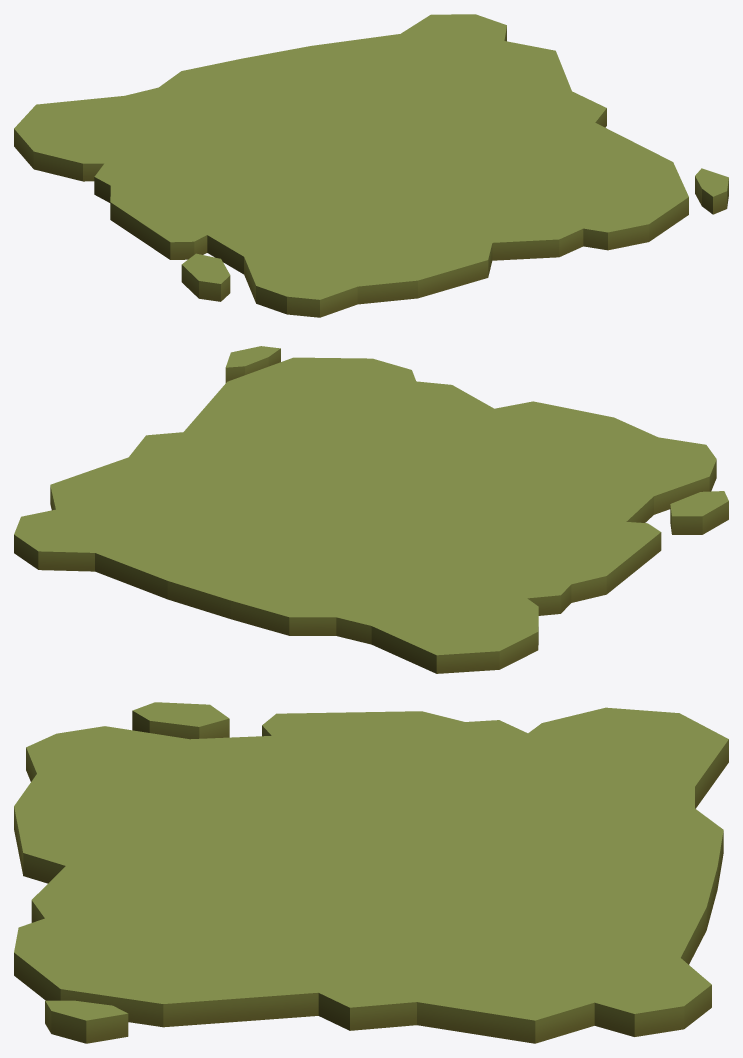
The model's file is Building_Grass_01.fbx.
3 views of the same model, one above another, from view 1: azimuth 30°, elevation 25°; view 2: azimuth 150°, elevation 25°; view 3: azimuth 270°, elevation 25° (orthographic). The views are drawn at different scales.
Parts seen in each view (by area): view 1: Building_Grass_01; view 2: Building_Grass_01; view 3: Building_Grass_01.
Part boxes in pixels (x1,y1,x2,y2): Building_Grass_01: (14, 14, 728, 317); Building_Grass_01: (14, 346, 728, 673); Building_Grass_01: (14, 702, 728, 1043).
Bounding box in the file's own units: 1.24 × 0.0419 × 1.17.
